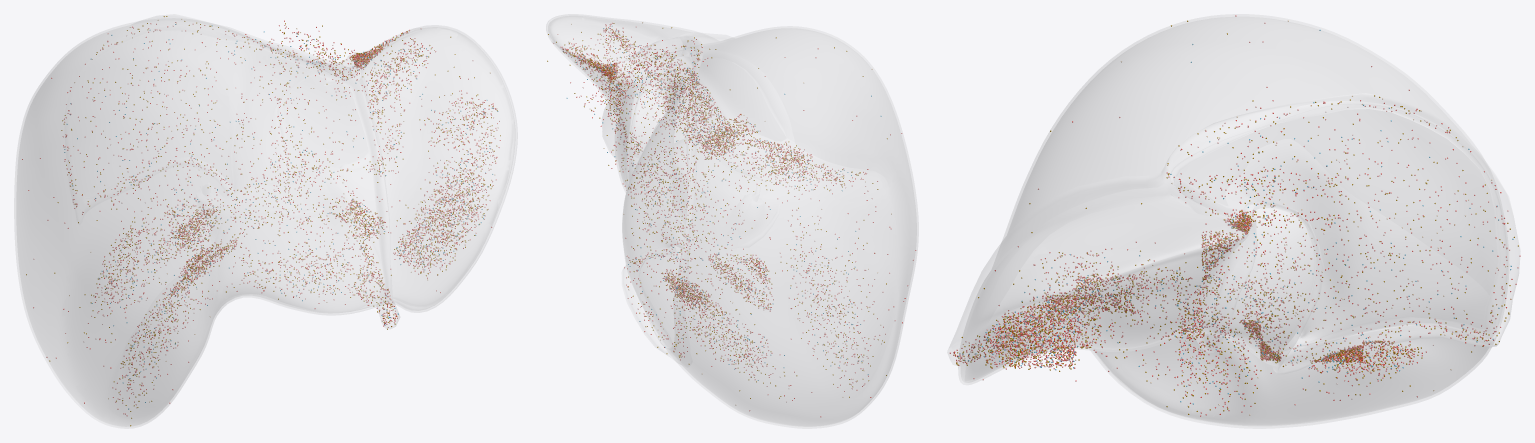
File: 3d-vh-m-liver-UBERON_0002107-all-as-celltypist-sphere-hra-pop.glb
3 renders of one model, left to right at view 1: azimuth 30°, elevation 25°; view 2: azimuth 150°, elevation 25°; view 3: azimuth 270°, elevation 25°, orthographic. The views are drawn at different scales.
Visible parts, largest first — view 1: VH_M_liver_capsule, VH_M_left_anterolateral_segment, VH_M_right_posterosuperior_segment, VH_M_left_posterolateral_segment, VH_M_right_posteroinferior_segment, VH_M_right_anteroinferior_segment, VH_M_coronary_ligament_of_liver; view 2: VH_M_liver_capsule, VH_M_right_anteroinferior_segment, VH_M_coronary_ligament_of_liver, VH_M_bare_area_of_liver, VH_M_right_posteroinferior_segment, VH_M_right_posterosuperior_segment, VH_M_left_posterolateral_segment, VH_M_ligamentum_venosum, VH_M_falciform_ligament, VH_M_right_anterosuperior_segment; view 3: VH_M_liver_capsule, VH_M_right_posterosuperior_segment, VH_M_coronary_ligament_of_liver, VH_M_right_anterosuperior_segment, VH_M_falciform_ligament, VH_M_ligamentum_venosum, VH_M_left_anterolateral_segment.
Boxes of the visible parts, x1=… form: VH_M_liver_capsule: x1=14, y1=18, x2=517, y2=428; VH_M_left_anterolateral_segment: x1=387, y1=171, x2=508, y2=306; VH_M_right_posterosuperior_segment: x1=18, y1=22, x2=150, y2=170; VH_M_left_posterolateral_segment: x1=372, y1=28, x2=513, y2=170; VH_M_right_posteroinferior_segment: x1=17, y1=175, x2=55, y2=371; VH_M_right_anteroinferior_segment: x1=69, y1=220, x2=225, y2=424; VH_M_coronary_ligament_of_liver: x1=135, y1=14, x2=361, y2=78; VH_M_liver_capsule: x1=546, y1=14, x2=918, y2=428; VH_M_right_anteroinferior_segment: x1=835, y1=145, x2=915, y2=422; VH_M_coronary_ligament_of_liver: x1=622, y1=36, x2=702, y2=365; VH_M_bare_area_of_liver: x1=625, y1=93, x2=686, y2=281; VH_M_right_posteroinferior_segment: x1=649, y1=313, x2=825, y2=425; VH_M_right_posterosuperior_segment: x1=623, y1=158, x2=644, y2=288; VH_M_left_posterolateral_segment: x1=550, y1=17, x2=689, y2=50; VH_M_ligamentum_venosum: x1=602, y1=82, x2=617, y2=160; VH_M_falciform_ligament: x1=679, y1=33, x2=734, y2=56; VH_M_right_anterosuperior_segment: x1=839, y1=42, x2=896, y2=121; VH_M_liver_capsule: x1=958, y1=14, x2=1508, y2=428; VH_M_right_posterosuperior_segment: x1=1308, y1=28, x2=1496, y2=253; VH_M_coronary_ligament_of_liver: x1=1162, y1=94, x2=1520, y2=373; VH_M_right_anterosuperior_segment: x1=1104, y1=17, x2=1309, y2=102; VH_M_falciform_ligament: x1=949, y1=172, x2=1162, y2=347; VH_M_ligamentum_venosum: x1=1191, y1=222, x2=1257, y2=352; VH_M_left_anterolateral_segment: x1=961, y1=271, x2=995, y2=379.
Size of the model in its own units: 0.1915 by 0.1746 by 0.2018.
